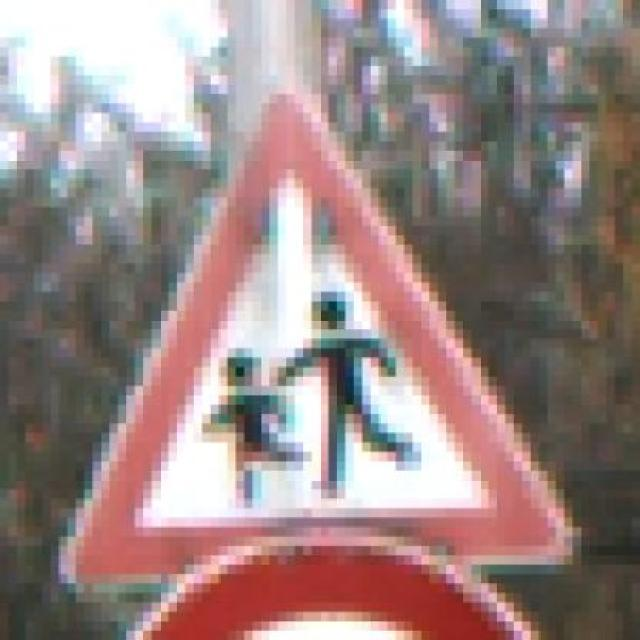Beware of children: (67, 95, 590, 593)
